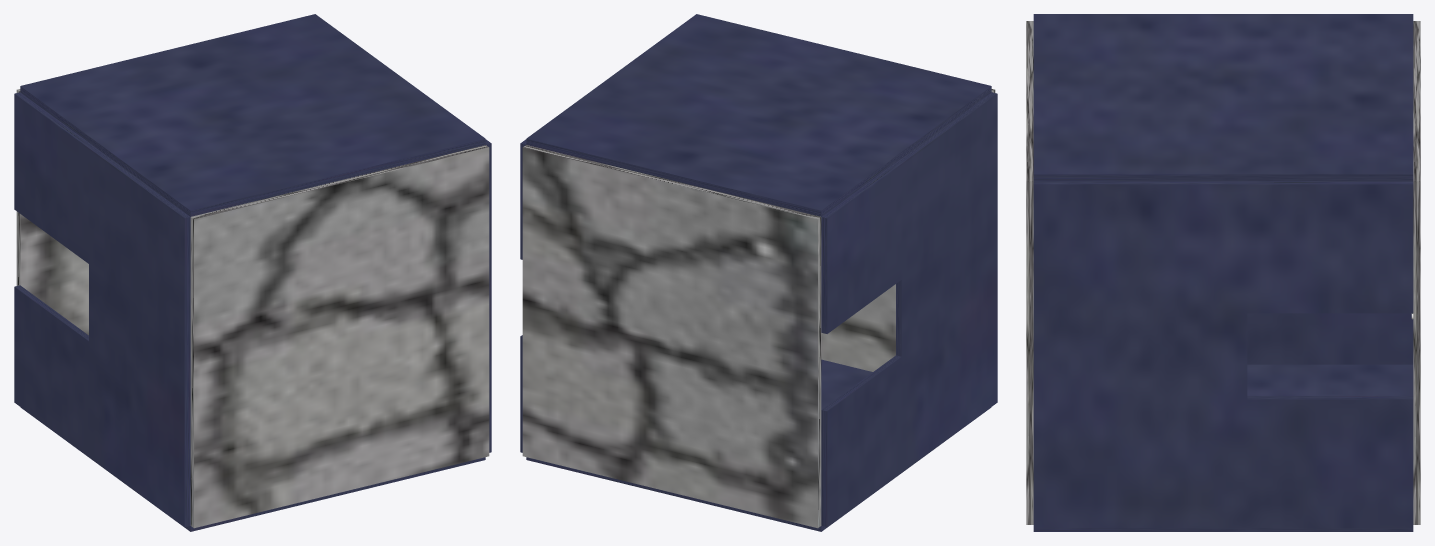
File: procedural-mimitasizing5-infdgnslr-v2.glb
The picture shows the model from 3 angles, left to right: view 1: azimuth 30°, elevation 25°; view 2: azimuth 150°, elevation 25°; view 3: azimuth 270°, elevation 25°; orthographic projection. The views are drawn at different scales.
Visible parts, largest first — view 1: floor.001, wallPositiveY, wallNegativeX, floor, wallNegativeY, wallNegativeX.001; view 2: floor, wallPositiveY, wallNegativeX, floor.001, wallNegativeY, wallNegativeX.001; view 3: wallNegativeX.001, wallPositiveY, wallNegativeX, wallNegativeY, floor, floor.001.
Part boxes in pixels (x1,y1,x2,y2): floor.001: (190,145,489,528); wallPositiveY: (20,14,485,216); wallNegativeX: (14,92,190,526); floor: (16,89,88,335); wallNegativeY: (20,407,485,531); wallNegativeX.001: (485,139,491,452); floor: (522,145,821,528); wallPositiveY: (526,14,991,216); wallNegativeX: (821,92,997,526); floor.001: (821,89,995,371); wallNegativeY: (526,359,991,531); wallNegativeX.001: (520,139,526,452); wallNegativeX.001: (1033,181,1413,528); wallPositiveY: (1033,14,1413,181); wallNegativeX: (1247,313,1413,364); wallNegativeY: (1033,364,1413,531); floor: (1413,21,1420,524); floor.001: (1026,21,1033,524).
Bounding box in the file's own units: 104 × 104 × 104.
4 materials, 4 textured.
